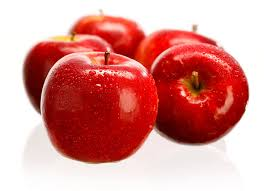apple: (45, 52, 157, 166), (150, 46, 250, 144), (29, 36, 117, 115), (138, 24, 226, 84), (71, 12, 144, 67)
